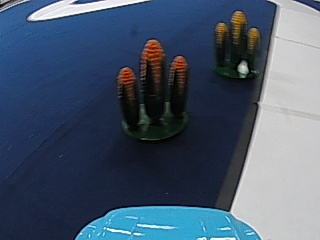corn: (115, 38, 191, 143), (212, 7, 259, 82)
